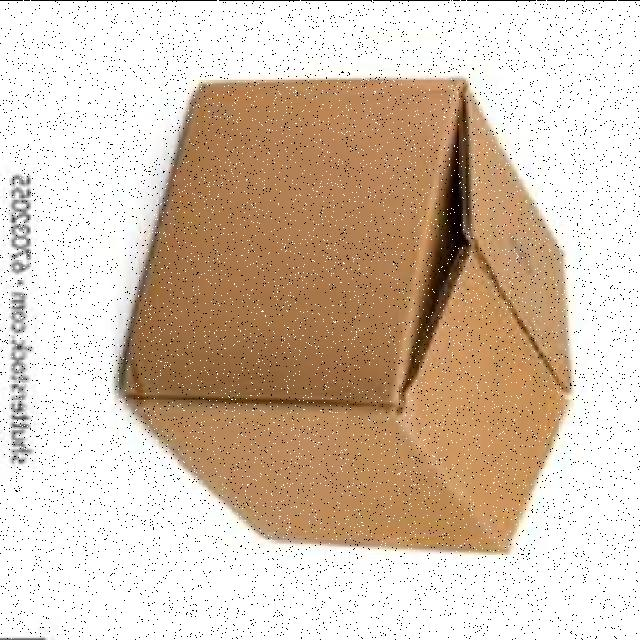defect: (116, 70, 578, 558)
